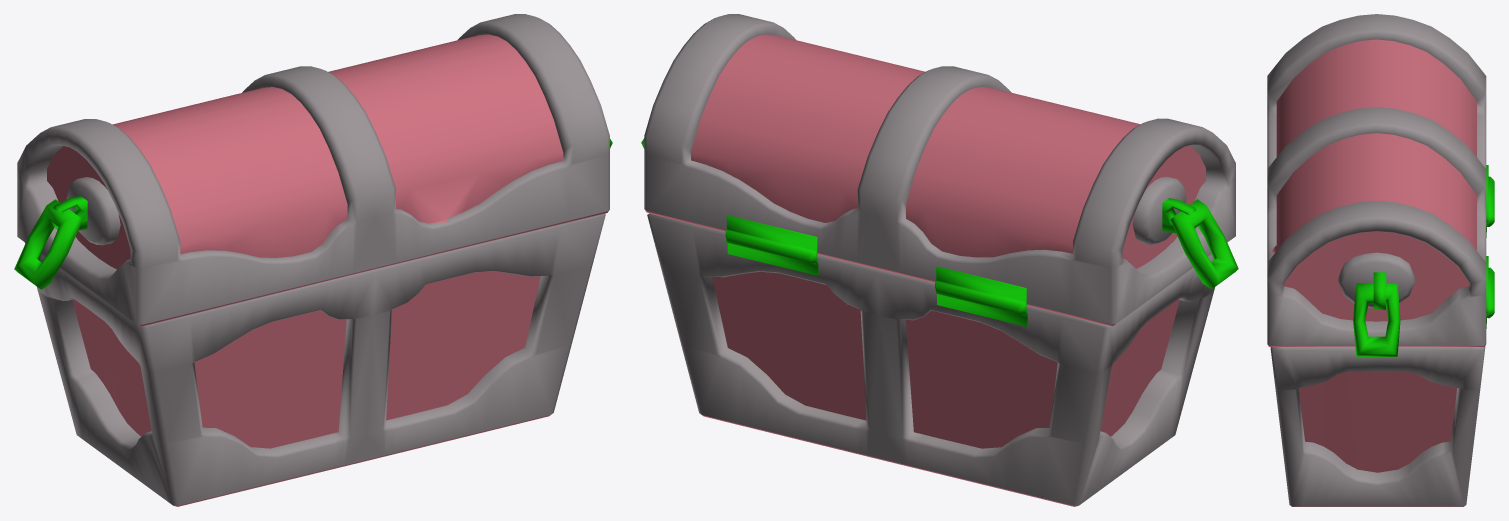
Rendered from ChestBasic.fbx.
3 views of the same model, side by side, from view 1: azimuth 30°, elevation 25°; view 2: azimuth 150°, elevation 25°; view 3: azimuth 270°, elevation 25° (orthographic). The views are drawn at different scales.
Parts seen in each view (by area): view 1: chest_01_hinge002.004, chest_01_bottom001.005; view 2: chest_01_hinge002.004, chest_01_bottom001.005; view 3: chest_01_hinge002.004, chest_01_bottom001.005.
Boxes of the visible parts, <box> form: chest_01_hinge002.004: <box>14,14,612,326</box>; chest_01_bottom001.005: <box>25,213,605,506</box>; chest_01_hinge002.004: <box>641,14,1238,326</box>; chest_01_bottom001.005: <box>647,213,1214,506</box>; chest_01_hinge002.004: <box>1267,14,1494,356</box>; chest_01_bottom001.005: <box>1270,346,1485,506</box>.
Size of the model in its own units: 585 by 337 by 224.
